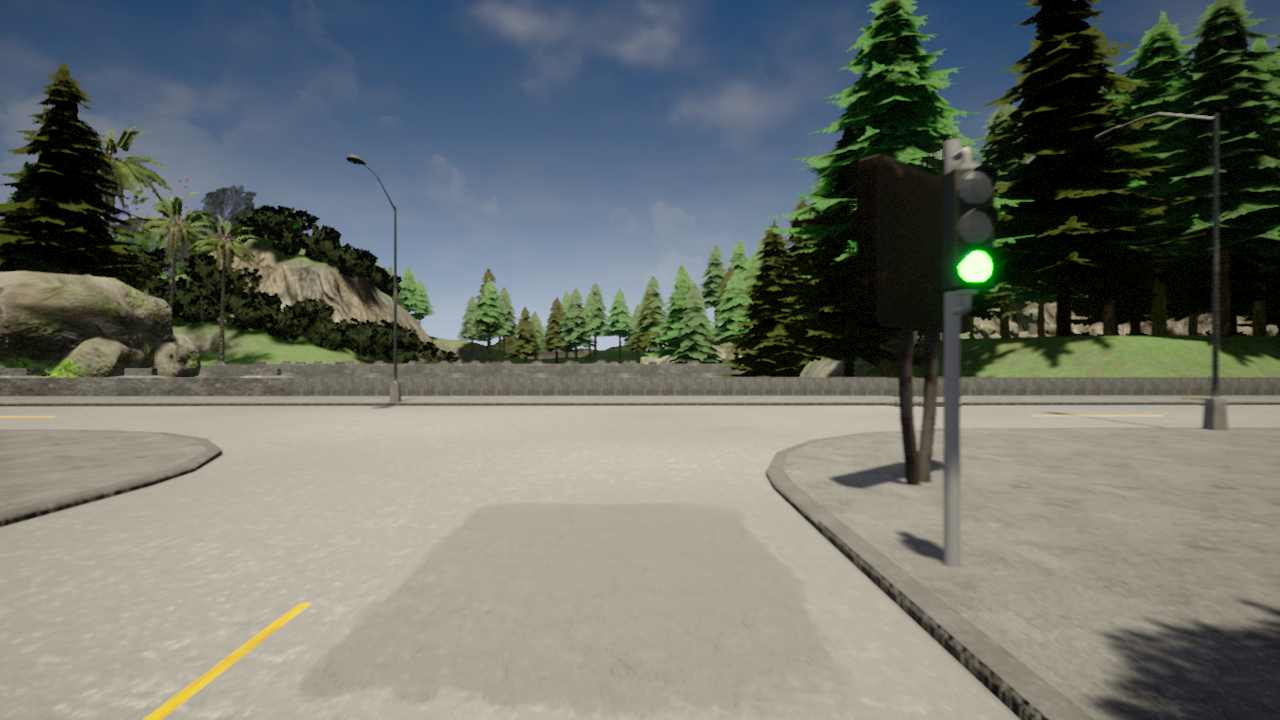green: (938, 159, 1000, 288)
